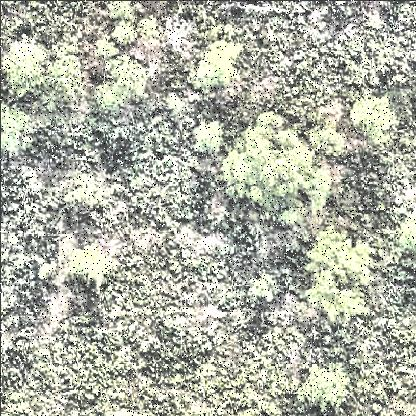tree-top: (221, 111, 337, 224), (307, 224, 377, 324), (184, 38, 249, 98), (89, 58, 154, 115), (2, 38, 53, 95), (298, 362, 353, 411), (353, 96, 400, 149), (68, 246, 111, 290), (2, 104, 34, 152), (193, 119, 227, 157), (110, 20, 139, 50)
